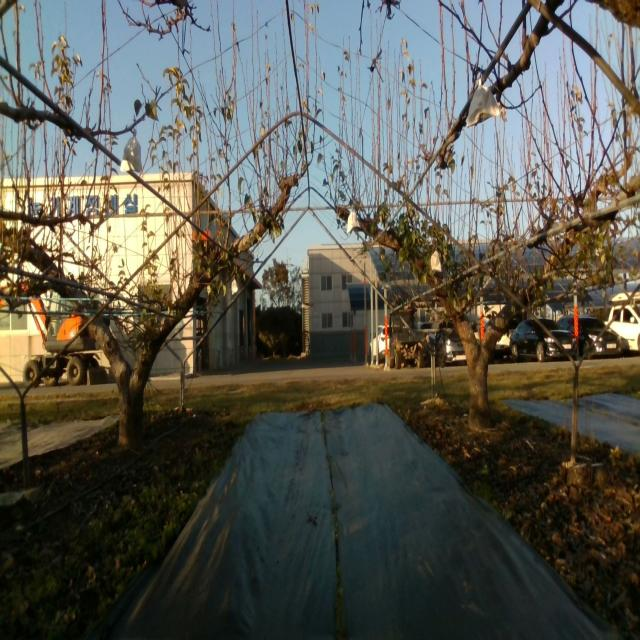pearbags: (465, 77, 500, 131), (120, 127, 143, 174), (346, 210, 361, 236), (431, 247, 442, 272)
